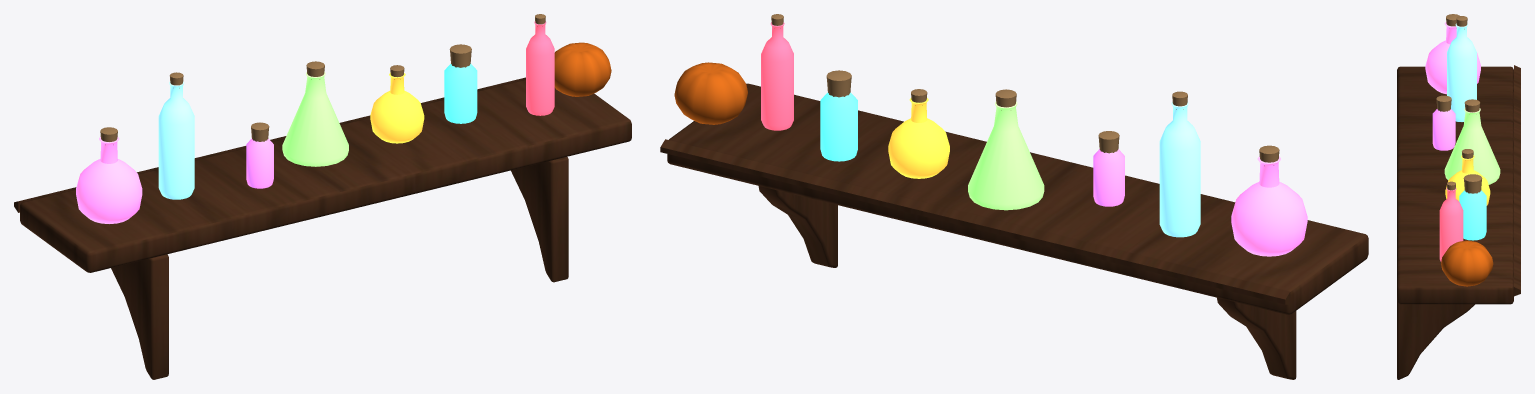
The model's file is manor_potions.glb.
3 views of the same model, side by side, from view 1: azimuth 30°, elevation 25°; view 2: azimuth 150°, elevation 25°; view 3: azimuth 270°, elevation 25° (orthographic). The views are drawn at different scales.
Parts seen in each view (by area): view 1: Potions; view 2: Potions; view 3: Potions.
Boxes of the visible parts, x1,y1,x2,y2 form: Potions: (14,14,631,379); Potions: (660,14,1368,379); Potions: (1397,14,1520,379).
Bounding box in the file's own units: 0.9273 × 0.4144 × 0.212.
10 materials, 1 textured.
